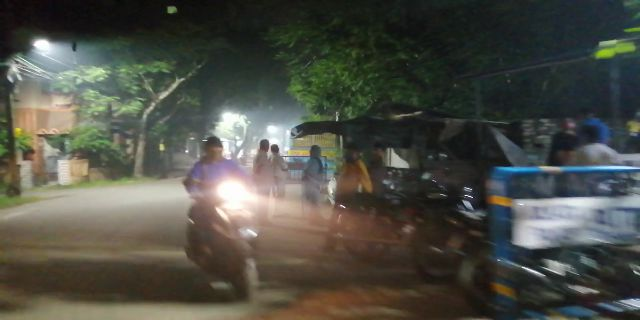Motorbike: (174, 135, 285, 307)
